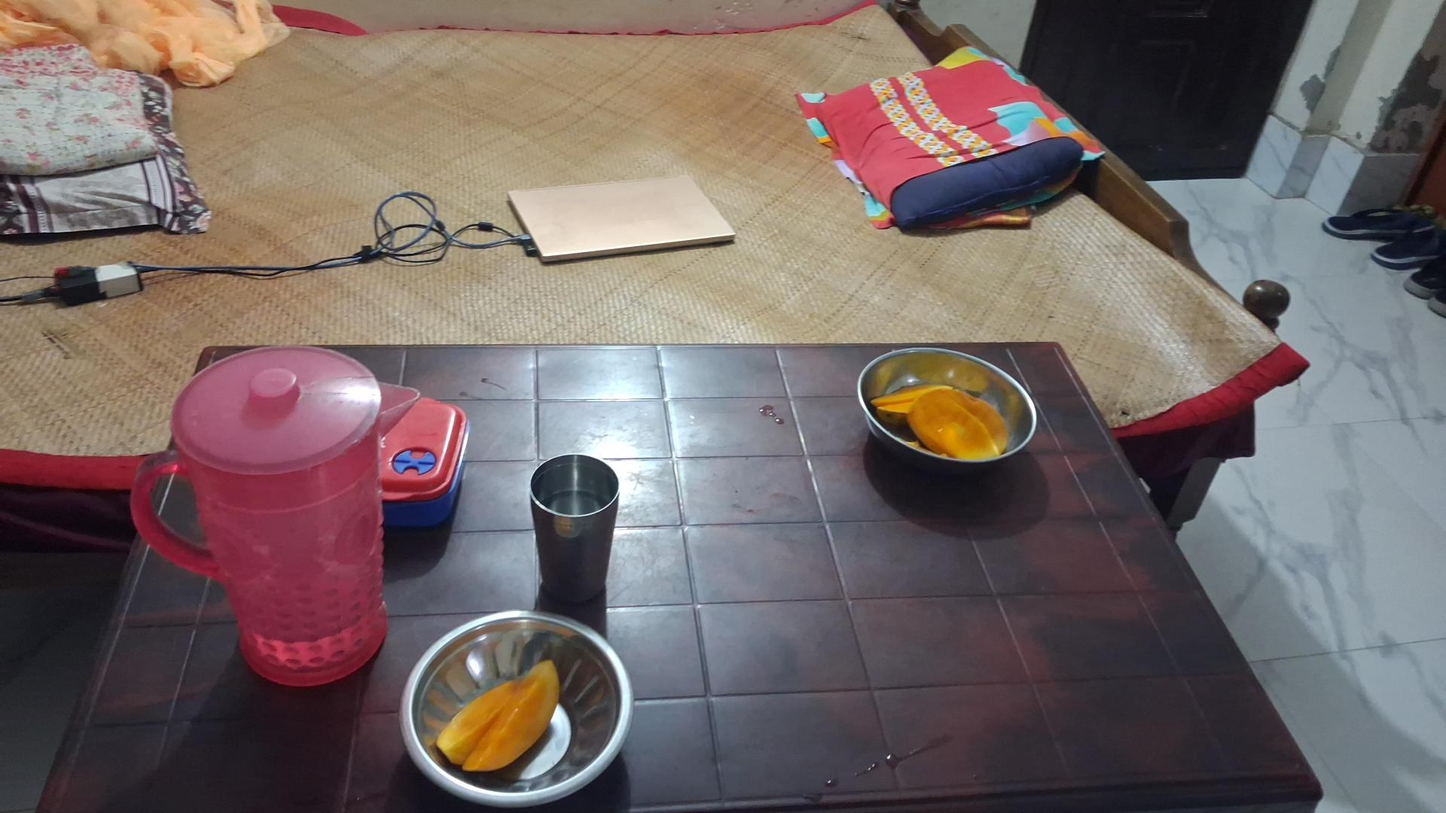Blanket: (0, 34, 167, 165)
Bowl: (398, 609, 634, 808), (857, 348, 1039, 479)
Food: (878, 374, 1011, 460), (443, 679, 565, 761)
Footwear: (1324, 202, 1442, 272)
Glass: (529, 453, 620, 602)
Jar: (367, 392, 462, 521)
Jug: (128, 345, 390, 689)
Laptop: (504, 180, 738, 268)
Pillow: (797, 52, 1095, 227)
Table: (34, 342, 1325, 813)
